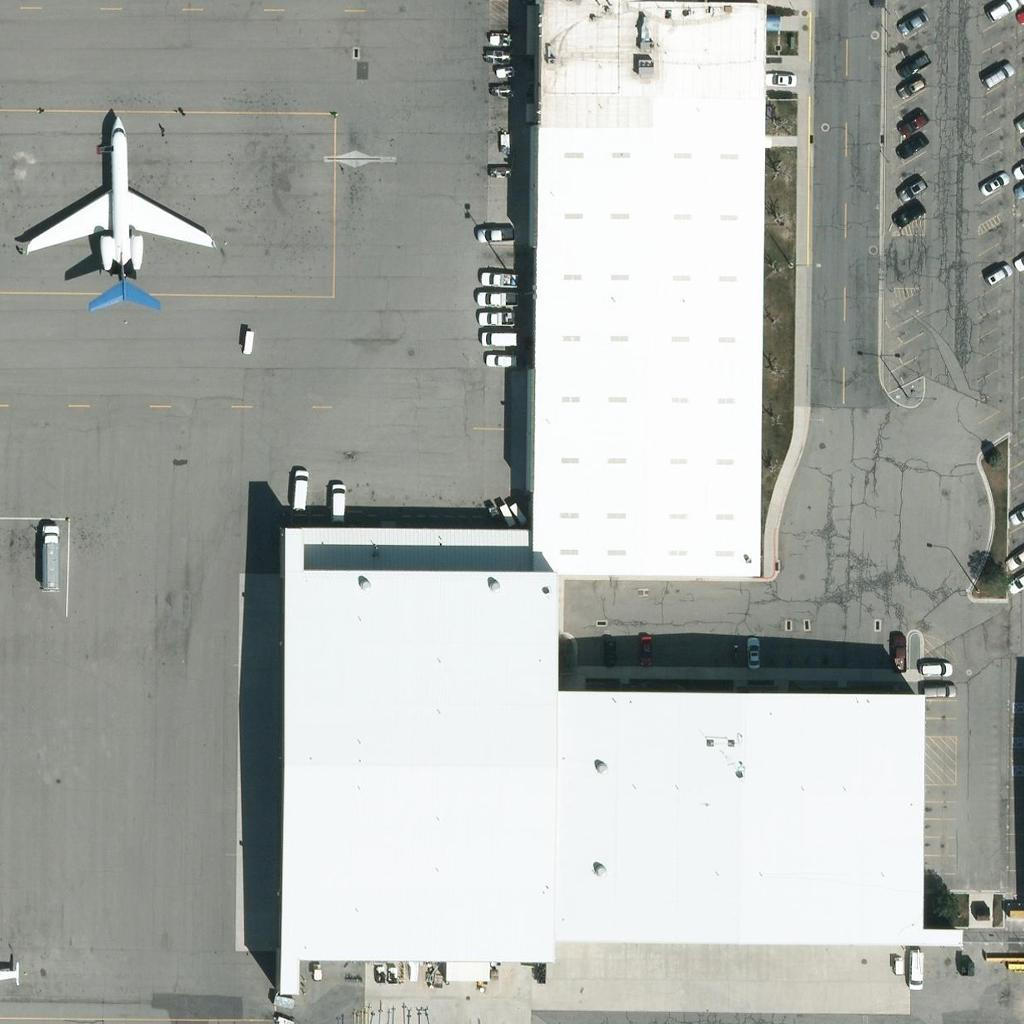car: (894, 4, 928, 38), (894, 48, 928, 82), (982, 57, 1016, 91), (762, 60, 796, 94), (894, 70, 928, 104), (897, 106, 931, 140), (894, 127, 928, 161), (977, 164, 1011, 198), (896, 171, 930, 205), (891, 195, 925, 229), (891, 196, 925, 230), (476, 216, 510, 250), (982, 256, 1016, 290), (478, 262, 512, 296), (477, 281, 511, 315), (476, 302, 510, 336), (479, 321, 513, 355), (485, 343, 519, 377), (283, 466, 317, 500), (321, 480, 355, 514), (628, 632, 662, 666), (882, 632, 916, 666), (591, 634, 625, 668), (737, 637, 771, 671), (918, 651, 952, 685), (922, 673, 956, 707), (898, 955, 932, 989), (985, 0, 1019, 24), (1005, 539, 1024, 573)
